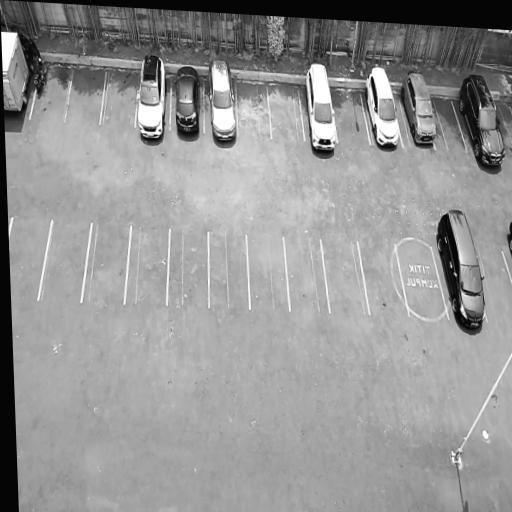Car: (430, 206, 495, 334), (450, 66, 508, 171), (360, 63, 406, 160), (396, 61, 442, 149), (1, 18, 38, 126), (301, 62, 340, 158), (136, 48, 168, 152), (205, 54, 239, 148), (174, 57, 203, 144), (505, 220, 512, 258)
Space Available: (40, 220, 91, 303), (395, 243, 448, 322), (358, 241, 409, 318), (83, 223, 130, 304), (321, 239, 369, 314), (9, 219, 51, 301), (284, 237, 329, 312), (126, 225, 169, 303), (248, 235, 289, 312), (168, 230, 208, 307), (210, 232, 249, 309), (477, 250, 512, 319), (66, 66, 105, 125), (330, 86, 370, 143), (429, 92, 468, 149), (101, 67, 138, 127), (268, 83, 305, 140), (236, 81, 271, 138), (493, 98, 512, 151)
